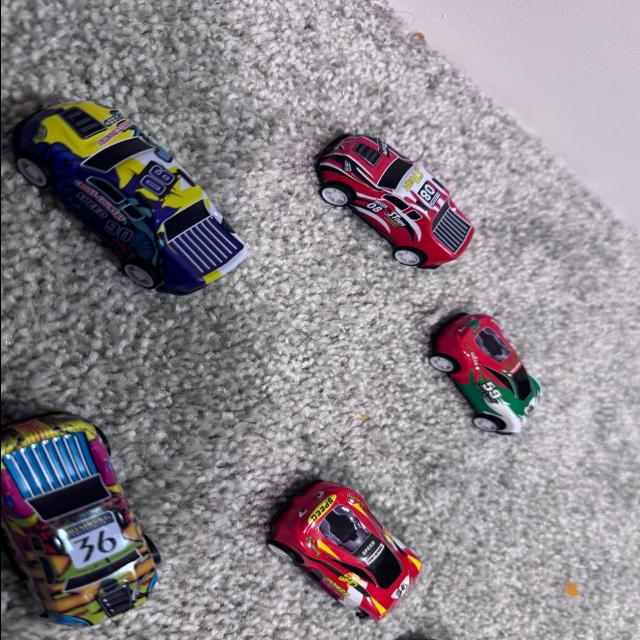Car: (6, 91, 232, 298), (0, 393, 155, 626), (254, 480, 422, 630), (331, 111, 482, 275), (408, 302, 534, 454)
